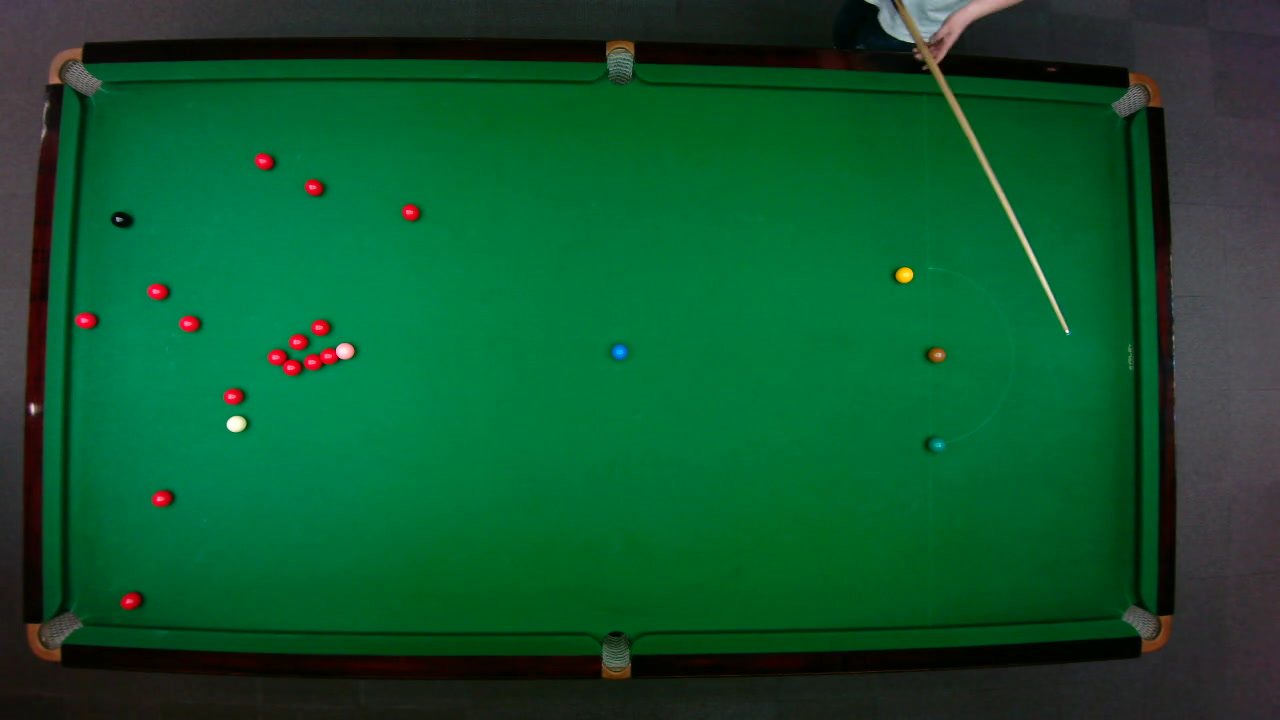bag: (25, 609, 84, 661), (45, 46, 102, 97), (1119, 603, 1171, 652), (1109, 71, 1161, 118), (600, 629, 629, 680), (605, 38, 633, 85)
black: (109, 210, 131, 228)
blue: (610, 342, 628, 360)
brown: (926, 346, 946, 362)
cue: (891, 0, 1069, 336)
green: (926, 435, 946, 453)
pink: (334, 341, 355, 360)
red: (118, 590, 142, 610), (149, 488, 173, 507), (221, 386, 244, 405), (145, 282, 169, 300), (177, 314, 200, 332), (73, 311, 97, 328), (303, 177, 324, 196), (253, 151, 274, 170), (400, 202, 420, 221), (281, 358, 302, 376), (287, 332, 308, 350), (302, 352, 323, 370), (309, 317, 330, 335), (265, 348, 287, 365), (319, 346, 338, 365)
white: (224, 414, 247, 433)
yellow: (893, 265, 914, 283)
zone: (926, 264, 1014, 444)
